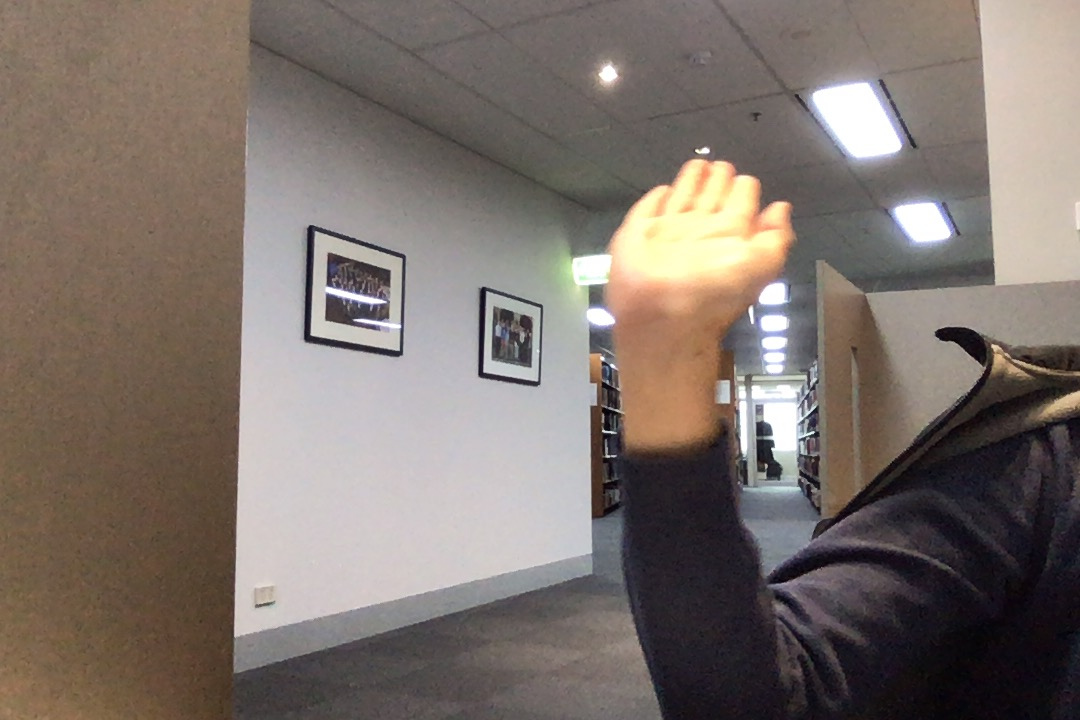palmhand: (594, 144, 801, 335)
